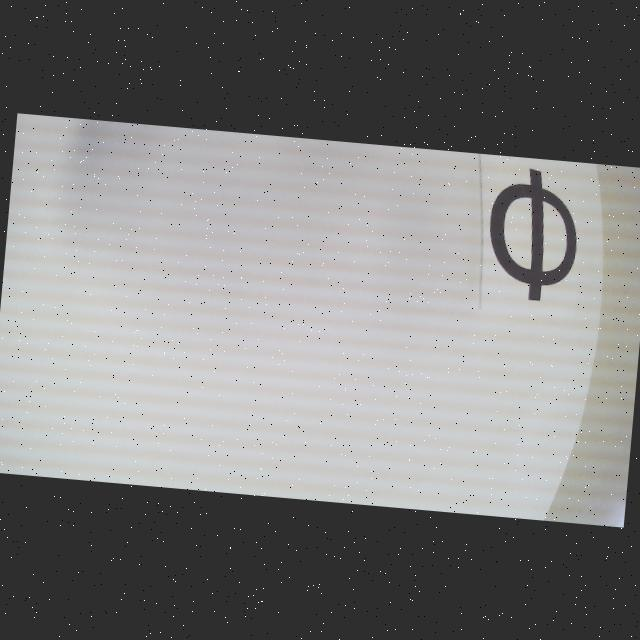PHI: (483, 164, 584, 305)
